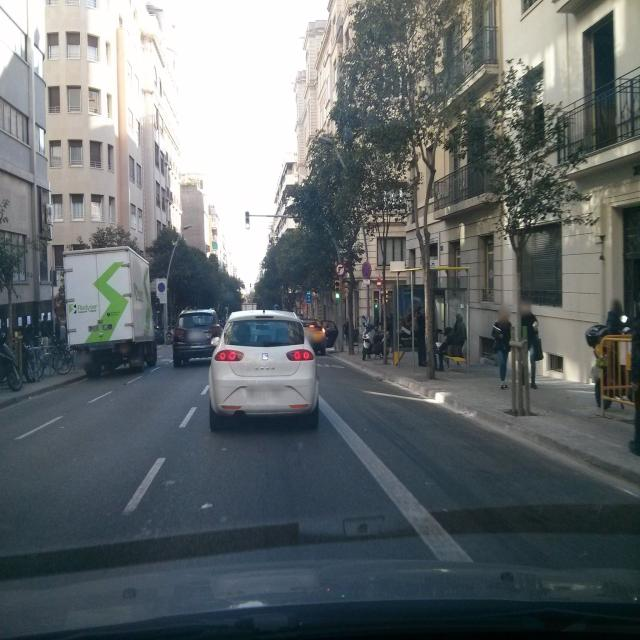forb_stopping: (157, 282, 165, 293)
forb_waiting: (361, 260, 371, 280)
